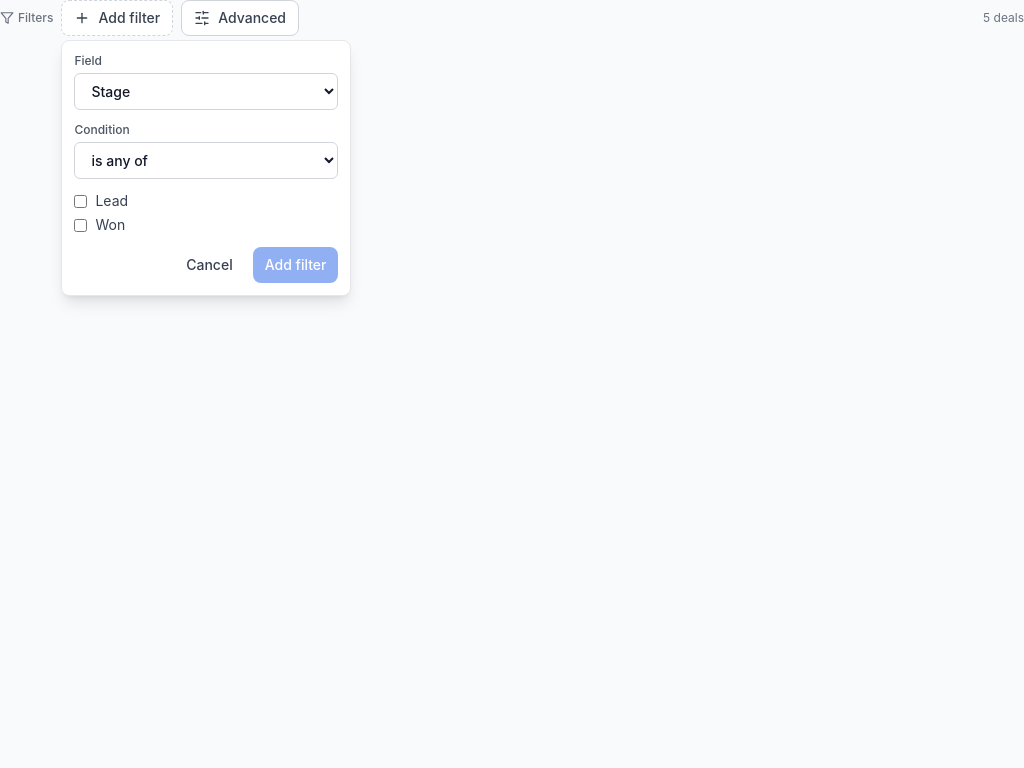
FilterBar › adds a stage filter chip through the Add filter popover, edits it and clears all
The width and height of the screenshot is (1024, 768).
Earlier steps of the test are not shown.
Click the checkbox labelled "Won": coordinates (81, 225) [74,218,87,232]
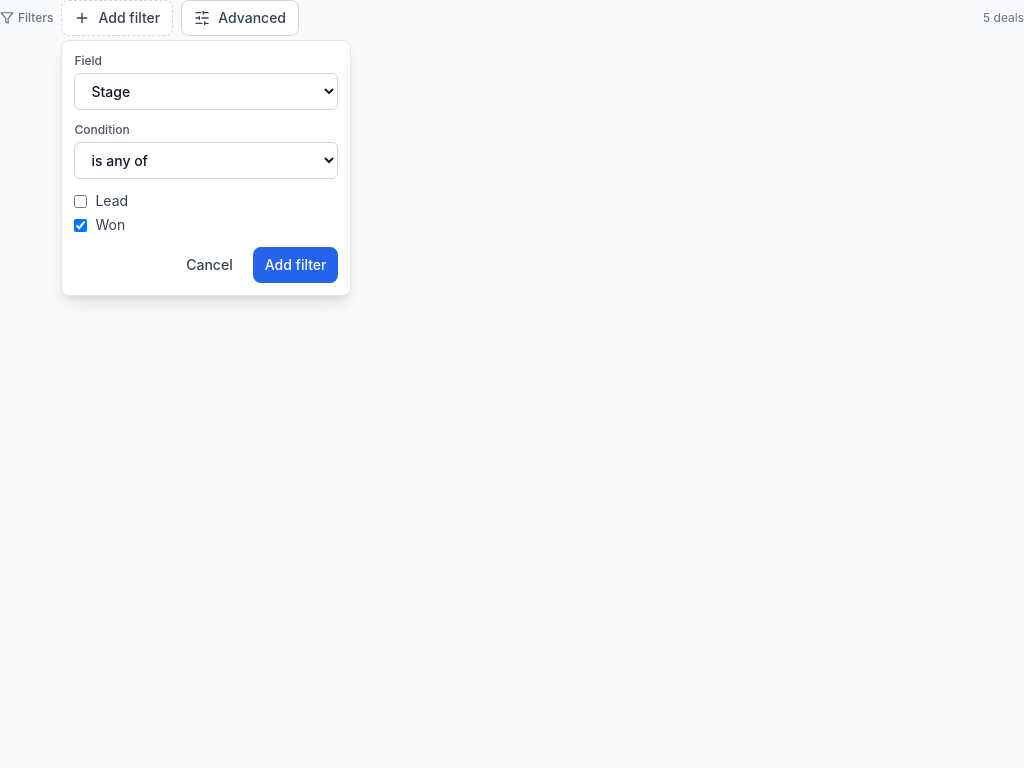
Click the button "Add filter" below "Won": coordinates (296, 265) [253,247,338,283]
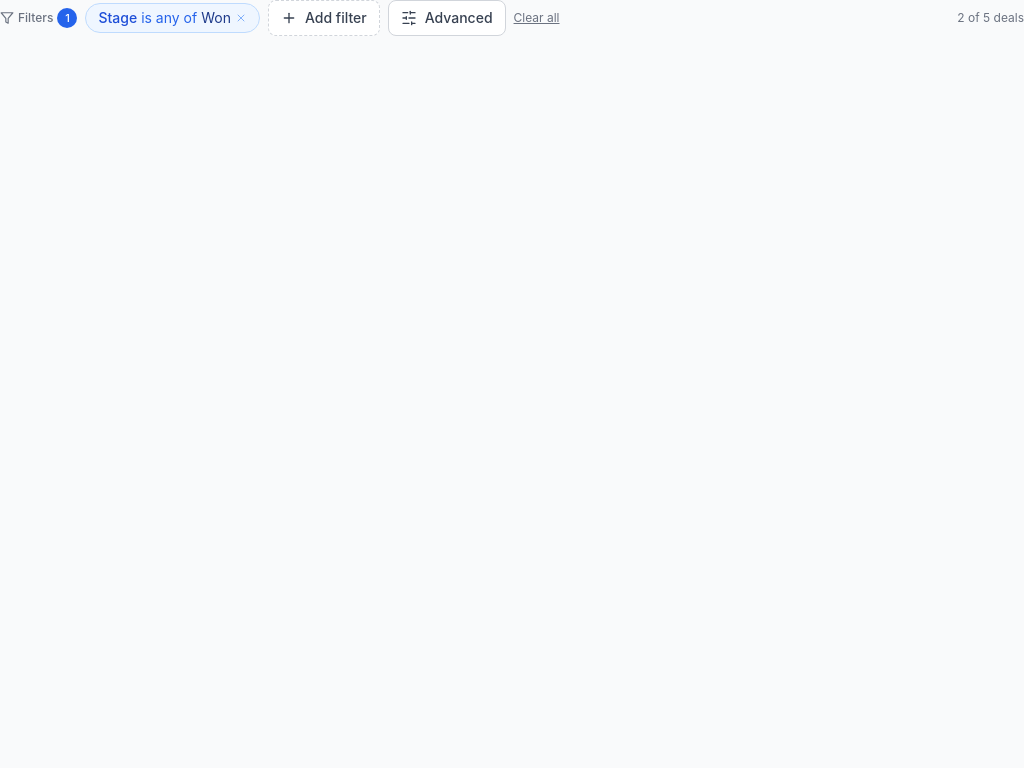
Check: the button with aria-label "Edit filter: Stage is any of Won" is shown
Check: the text with test id "filter-count" reads "1", box [65,11,70,25]
Check: the message with test id "filter-result-count" reads "2 of 5 deals", box [957,10,1023,25]
Click the button with aria-label "Edit filter": coordinates (165, 18) [98,8,231,28]
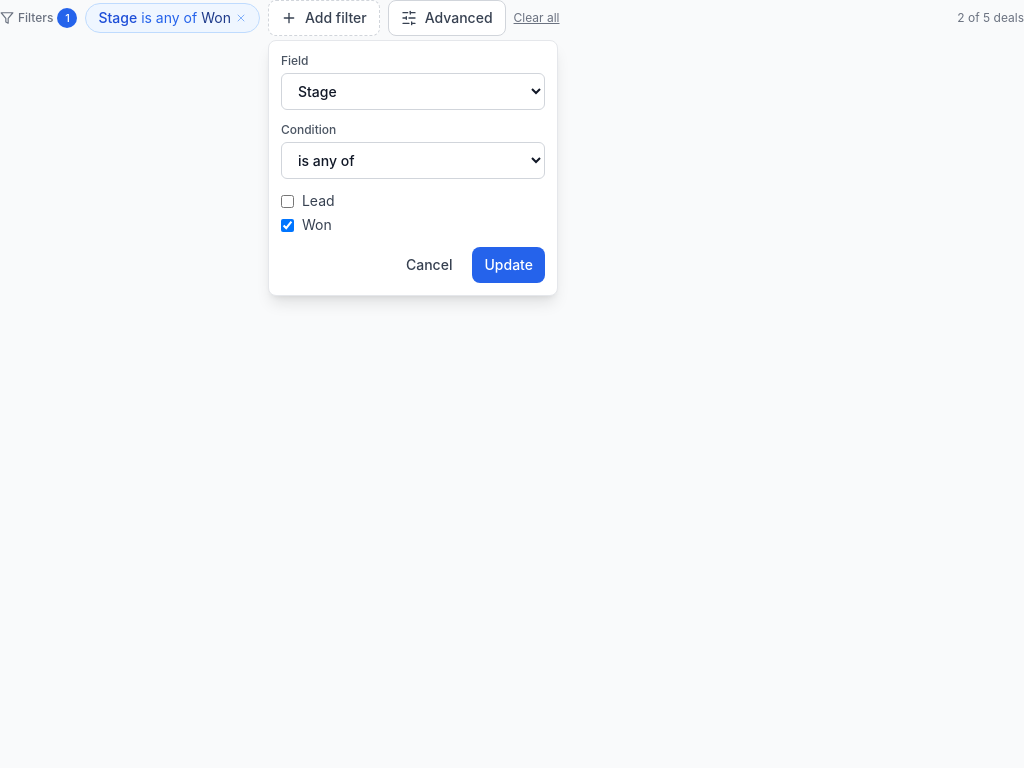
Click the checkbox labelled "Lead": coordinates (287, 201) [281,194,294,208]
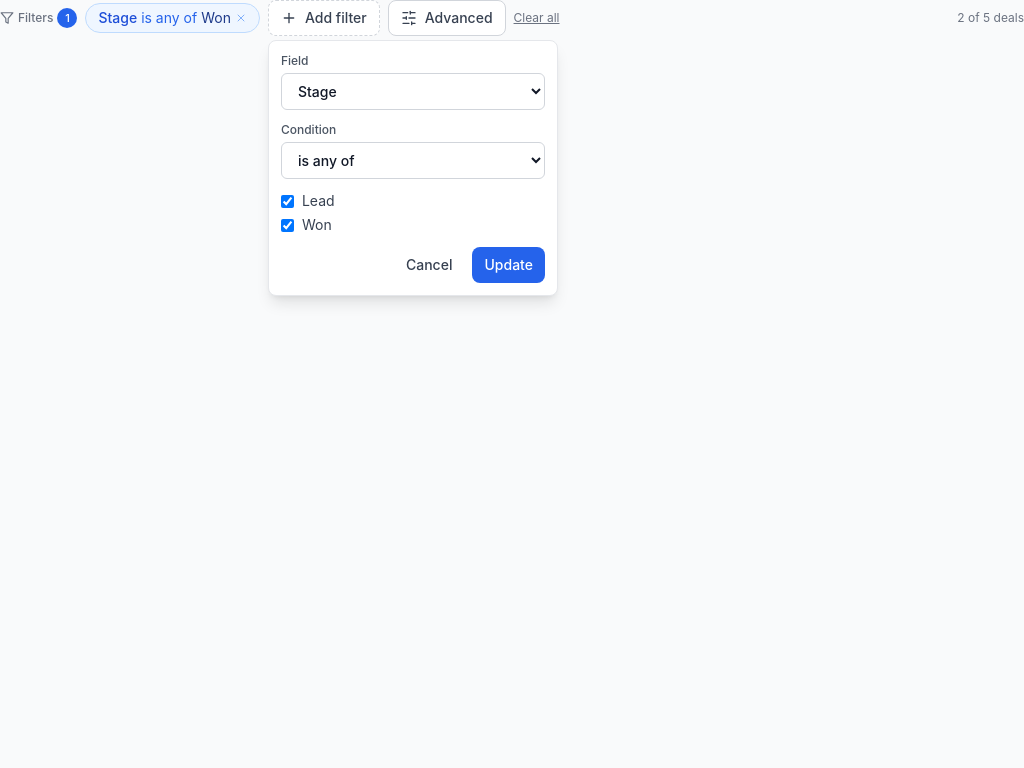
Click the button "Update": coordinates (509, 265) [472,247,545,283]
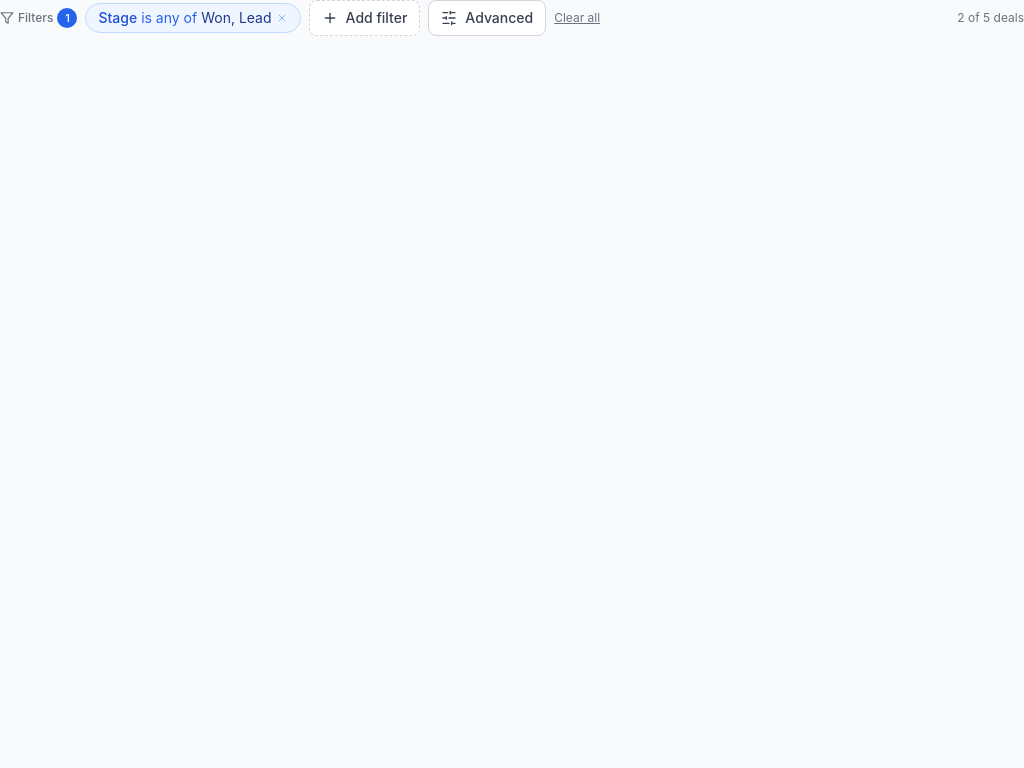
Click the button "Clear all": coordinates (577, 18) [554,10,600,26]
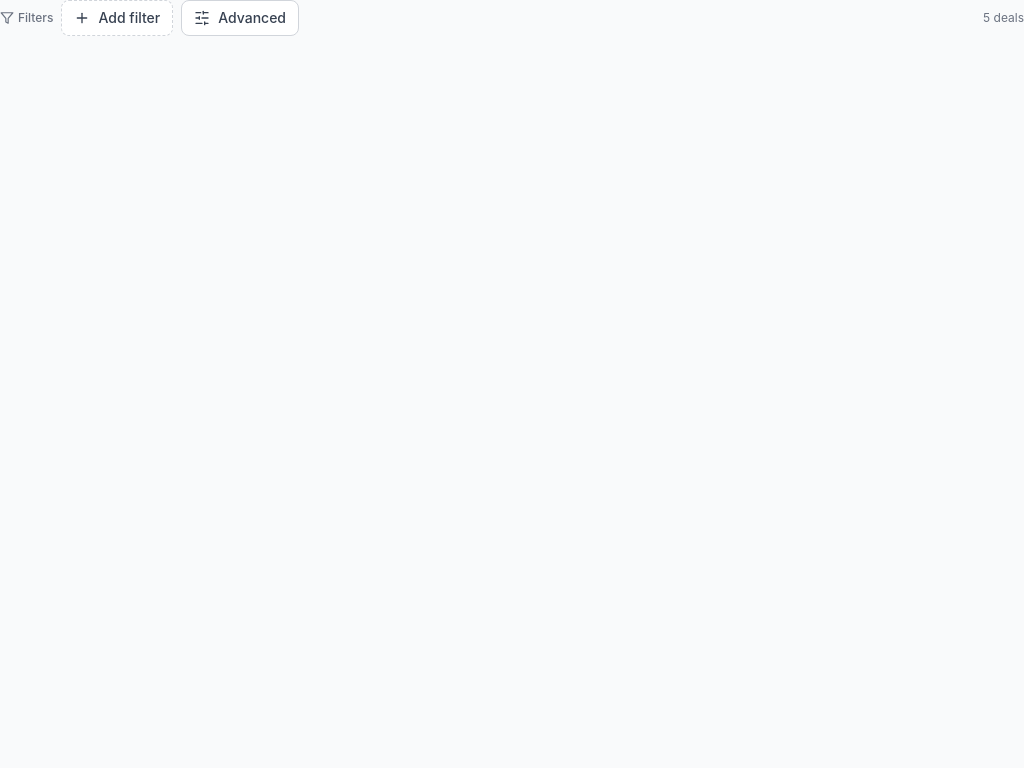
Check: the text with test id "filter-count" is gone
